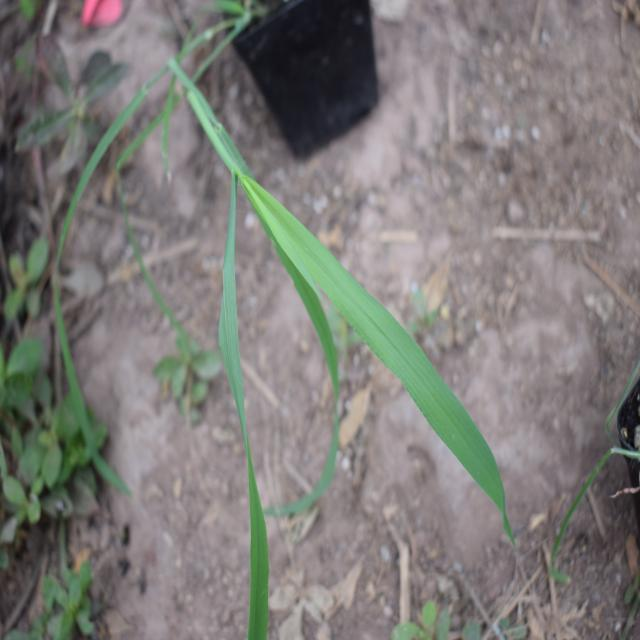crabgrass: (187, 136, 509, 598)
